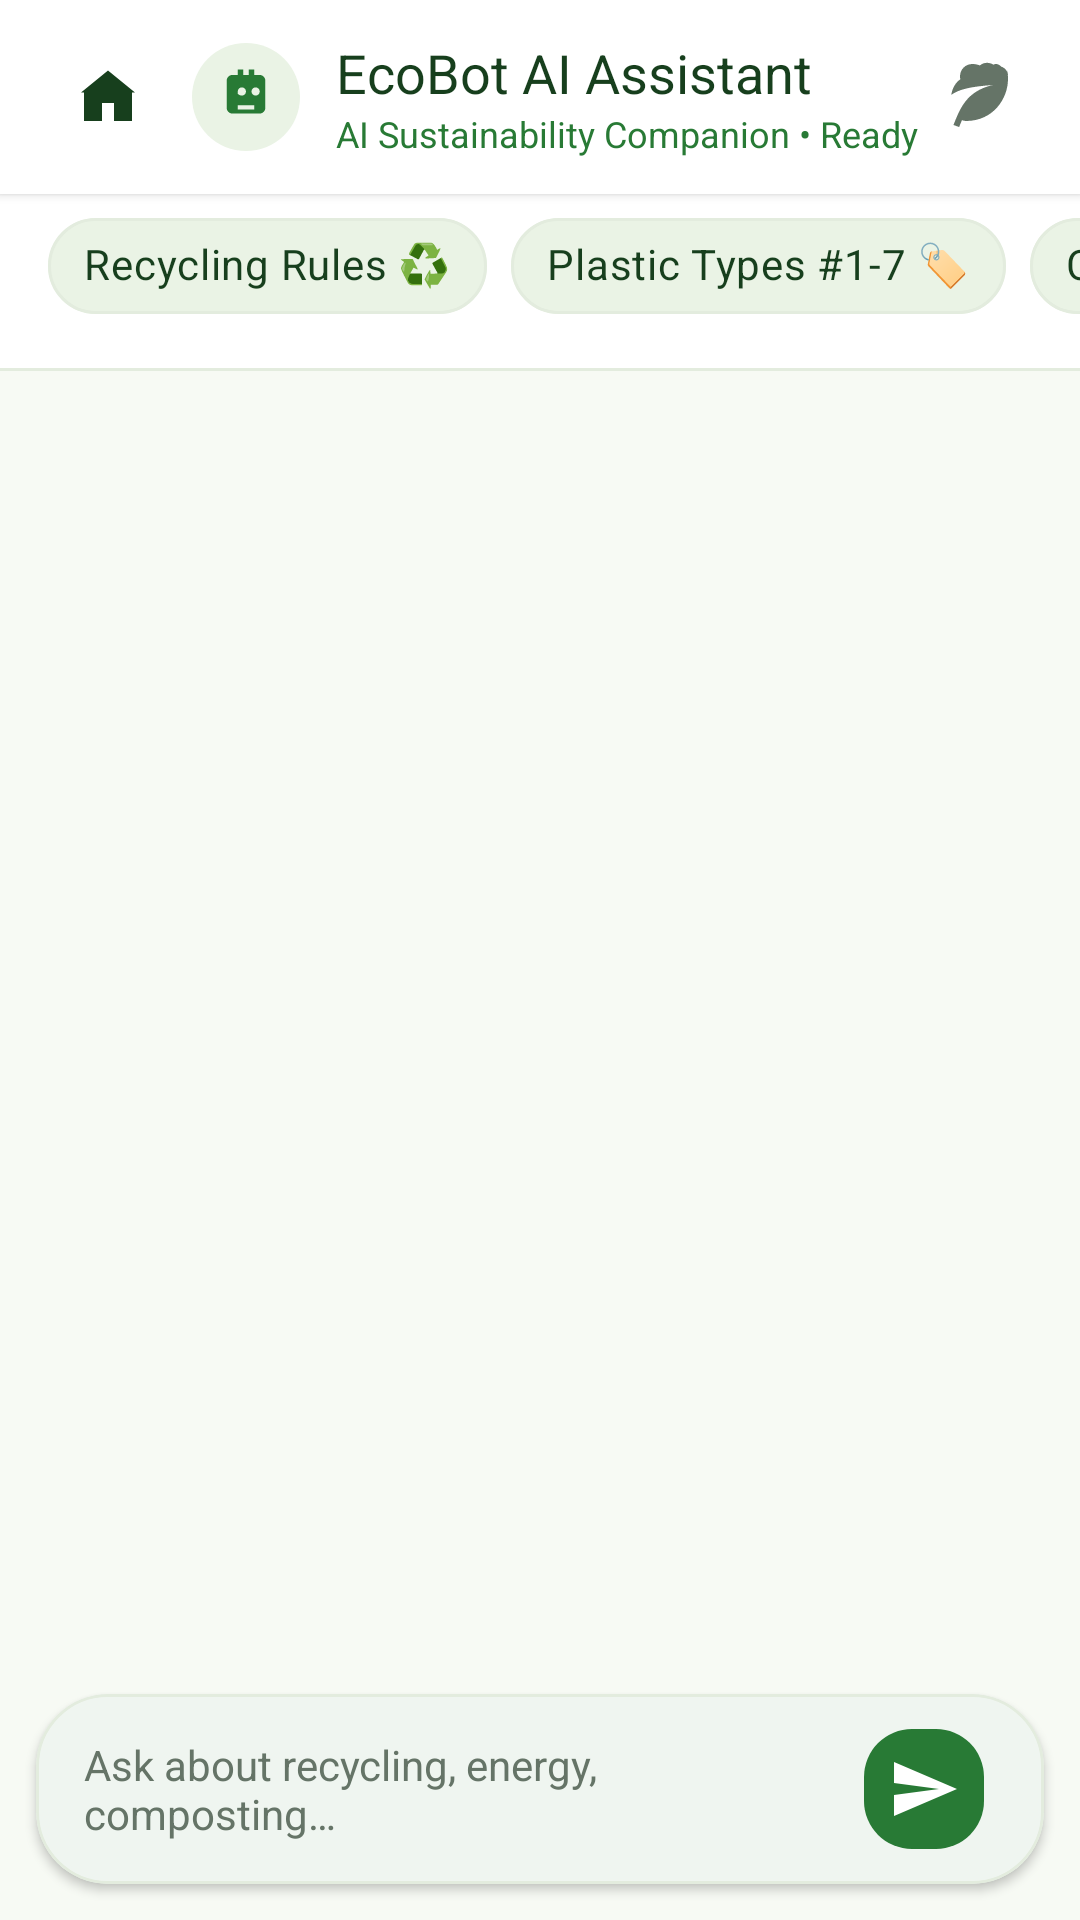

Where icons sit on this 1080 × 1920 app screen, as (x1, y1, x2, y2):
robot: (226, 69, 266, 114)
Send: (864, 1729, 984, 1849)
